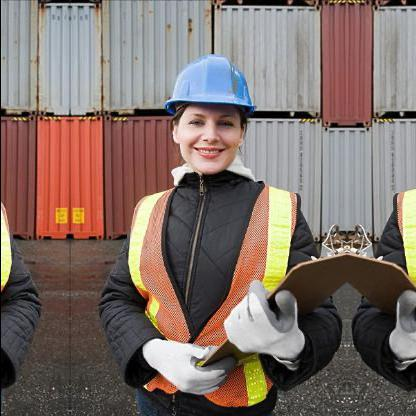Helmet: (150, 39, 266, 193)
